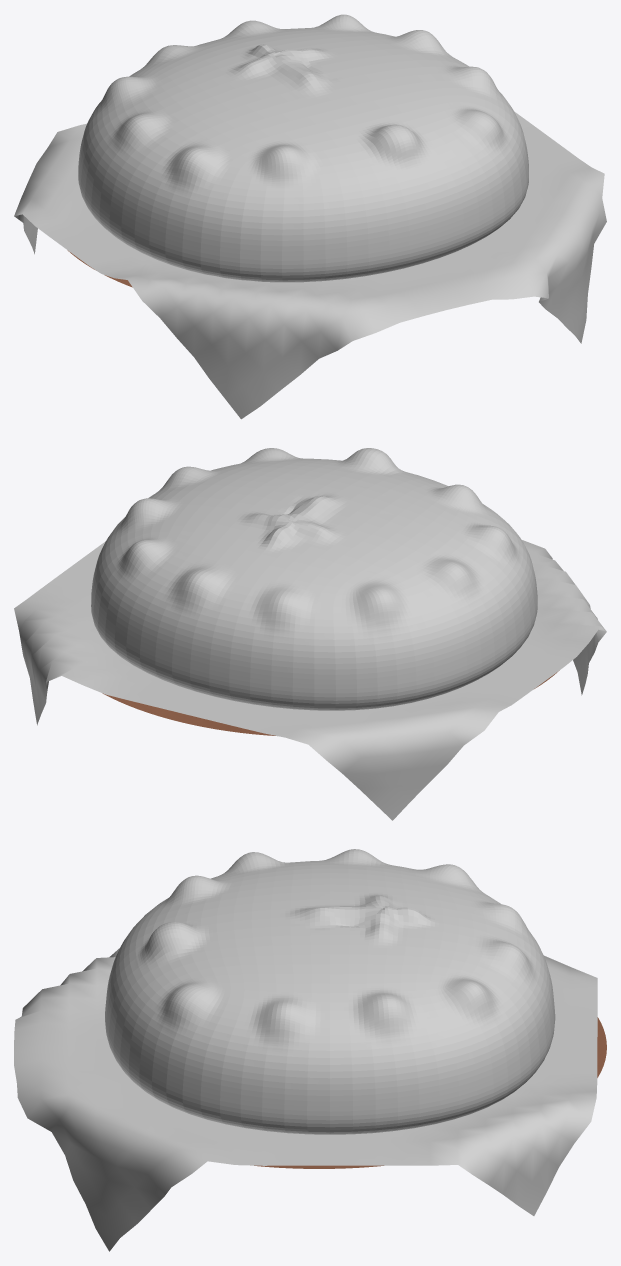
File: pirinska_pitka.fbx
The picture shows the model from 3 angles, top to bottom: view 1: azimuth 30°, elevation 25°; view 2: azimuth 150°, elevation 25°; view 3: azimuth 270°, elevation 25°; orthographic projection. The views are drawn at different scales.
Visible parts, largest first — view 1: Cube, Plane.018; view 2: Cube, Plane.018, Circle.002; view 3: Cube, Plane.018, Circle.002.
Boxes of the visible parts, box(x1,y1,x2,y2) form: Cube: box(78, 14, 528, 282); Plane.018: box(14, 111, 606, 419); Cube: box(91, 448, 537, 710); Plane.018: box(14, 540, 606, 820); Circle.002: box(102, 670, 559, 735); Cube: box(105, 849, 555, 1134); Plane.018: box(14, 948, 597, 1251); Circle.002: box(254, 1017, 606, 1168).
Bounding box in the file's own units: 77.42 × 37.15 × 78.58.
